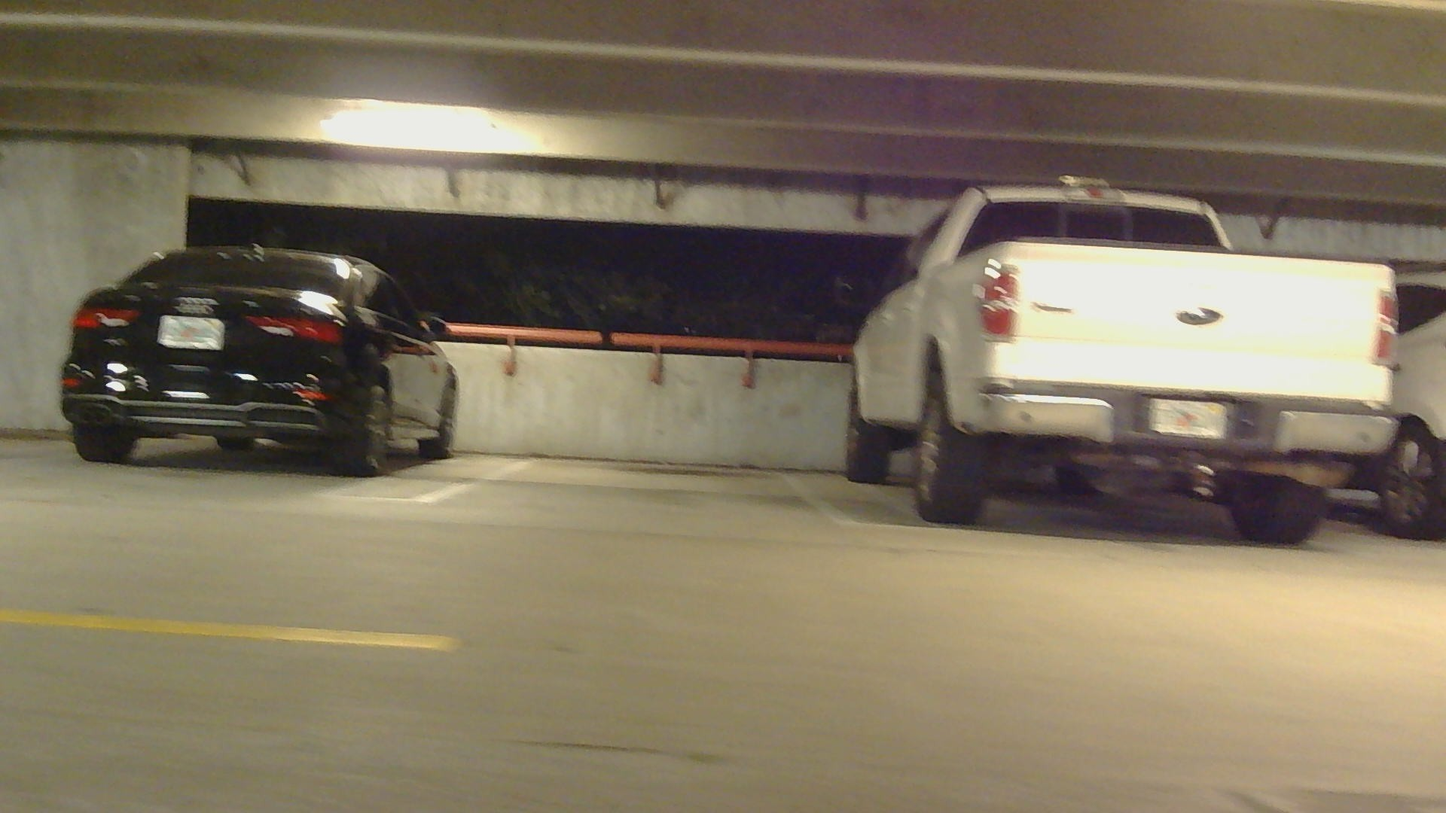empty_spot: (434, 395, 844, 524)
occupied_spot: (837, 184, 1405, 548), (69, 231, 469, 485)
